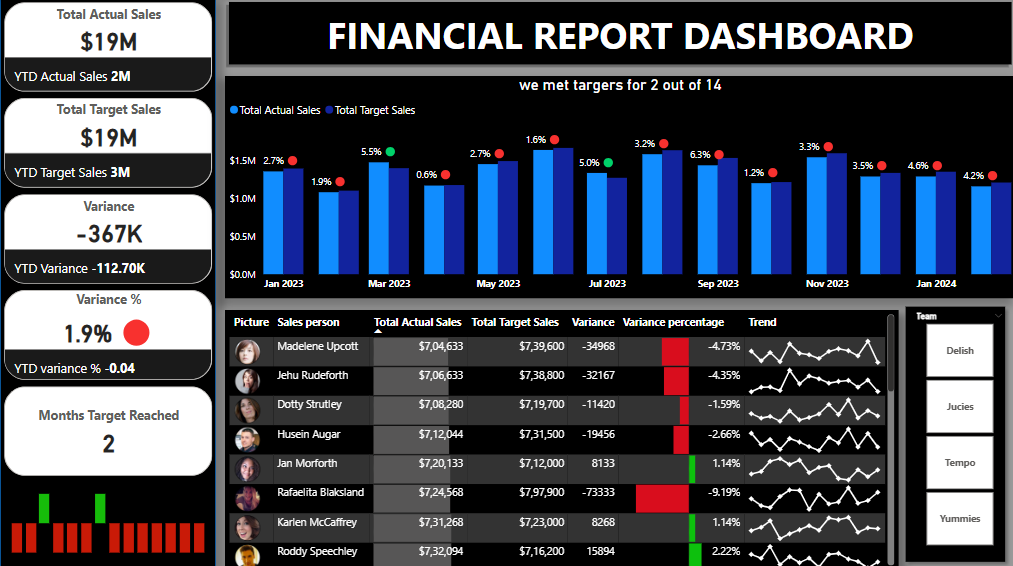

The dashboard page shown, as its layout file describes it:
{"tool":"powerbi","page":{"name":"Finance Dashboard","canvas":[1280,720],"ordinal":0},"visuals":[{"type":"shape","box":[0,0,272.1,720],"z":0},{"type":"cardVisual","fields":{"Data":["Actual.Total Actual Sales","Targets.Total Target Sales","Actual.Variance","Actual.Variance Label","Actual.Months Target Reached"]},"box":[13.2,9.5,249.8,617],"z":1000},{"type":"clusteredColumnChart","fields":{"Category":["Calendar.Date"],"Y":["Actual.Target Status"]},"box":[9.4,610.4,253.2,94.5],"z":2000},{"type":"clusteredColumnChart","fields":{"Category":["Calendar.Date"],"Y":["Actual.Total Actual Sales","Targets.Total Target Sales"]},"box":[283.5,98.3,995.9,279.7],"z":3000},{"type":"shape","box":[283.5,0,995.9,88.8],"z":4000},{"type":"tableEx","fields":{"Values":["dimPeople.Picture","dimPeople.Sales person","Actual.Total Actual Sales","Targets.Total Target Sales","Actual.Variance","Actual.Variance %","SparklineData(Actual.Total Actual Sales_[Calendar.Date])"]},"box":[283.5,393.1,848.5,326.9],"z":5000},{"type":"shape","box":[1132,379.8,143.6,340.2],"z":7000,"group":"g1"},{"type":"slicer","fields":{"Values":["dimPeople.Team"]},"box":[1141.8,389,134.2,307],"z":8000,"group":"g1"},{"type":"group","id":"g1","title":"Group 1","box":[1132,379.8,143.6,340.2],"z":8001}]}

Visuals, with their boxes in screenshot pixels (x1, y1, x2, y2), scaled from the page's 1280x720 canvas onto the 1013x566 screenshot:
shape: {"left": 0, "top": 0, "right": 215, "bottom": 565}
cardVisual - Actual.Total Actual Sales x Targets.Total Target Sales: {"left": 10, "top": 7, "right": 208, "bottom": 492}
clusteredColumnChart - Calendar.Date x Actual.Target Status: {"left": 7, "top": 480, "right": 208, "bottom": 554}
clusteredColumnChart - Calendar.Date x Actual.Total Actual Sales: {"left": 224, "top": 77, "right": 1012, "bottom": 297}
shape: {"left": 224, "top": 0, "right": 1012, "bottom": 70}
tableEx - dimPeople.Picture x dimPeople.Sales person: {"left": 224, "top": 309, "right": 896, "bottom": 565}
shape: {"left": 896, "top": 299, "right": 1010, "bottom": 565}
slicer - dimPeople.Team: {"left": 904, "top": 306, "right": 1010, "bottom": 547}
"Group 1" group: {"left": 896, "top": 299, "right": 1010, "bottom": 565}
